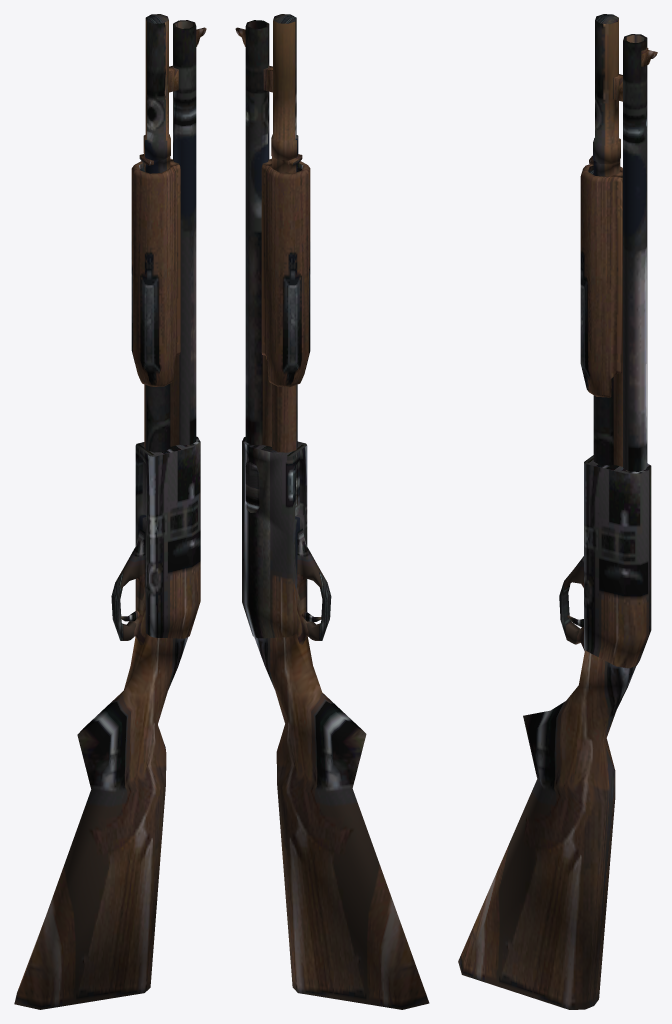
The model's file is shotgun.fbx.
3 renders of one model, left to right at view 1: azimuth 30°, elevation 25°; view 2: azimuth 150°, elevation 25°; view 3: azimuth 330°, elevation 25°, orthographic. The views are drawn at different scales.
Parts seen in each view (by area): view 1: rdmobj01_model\om\om0.001; view 2: rdmobj01_model\om\om0.001; view 3: rdmobj01_model\om\om0.001.
Part boxes in pixels (<box>): rdmobj01_model\om\om0.001: <box>14,14,206,1009</box>; rdmobj01_model\om\om0.001: <box>235,14,429,1009</box>; rdmobj01_model\om\om0.001: <box>458,14,657,1009</box>.
Bounding box in the file's own units: 203 × 972 × 42.75.
